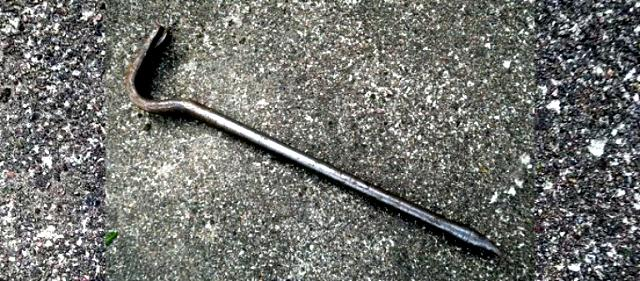crow bar: (123, 18, 519, 267)
